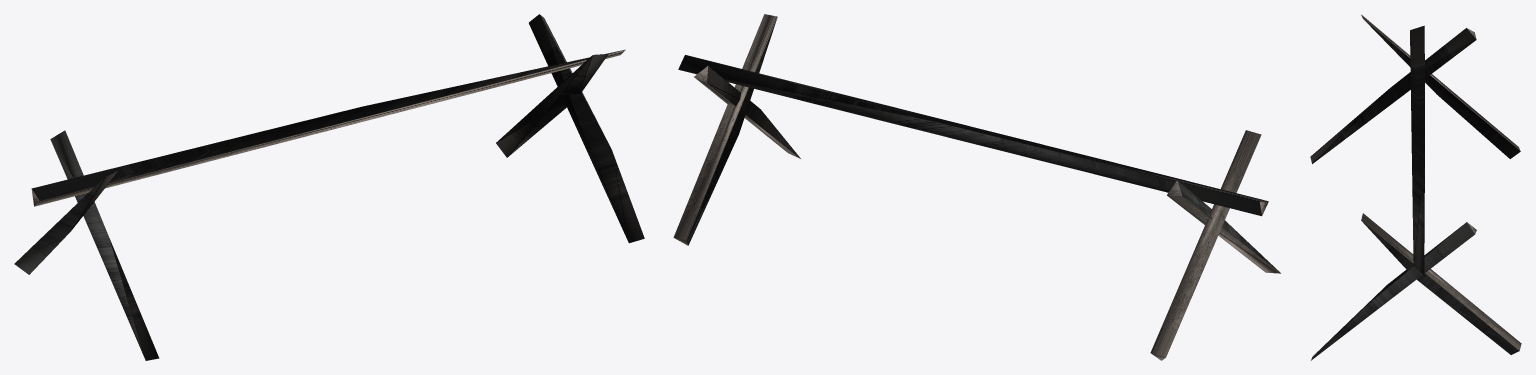
The model's file is baricade1_LOD2.fbx.
3 renders of one model, left to right at view 1: azimuth 30°, elevation 25°; view 2: azimuth 150°, elevation 25°; view 3: azimuth 270°, elevation 25°, orthographic. The views are drawn at different scales.
Visible parts, largest first — view 1: baricade1_LOD2; view 2: baricade1_LOD2; view 3: baricade1_LOD2.
Boxes of the visible parts, bbox=[...] form: baricade1_LOD2: bbox=[14, 14, 644, 360]; baricade1_LOD2: bbox=[673, 14, 1280, 360]; baricade1_LOD2: bbox=[1310, 14, 1521, 360].
Bounding box in the file's own units: 4.11 × 1.13 × 1.52.
